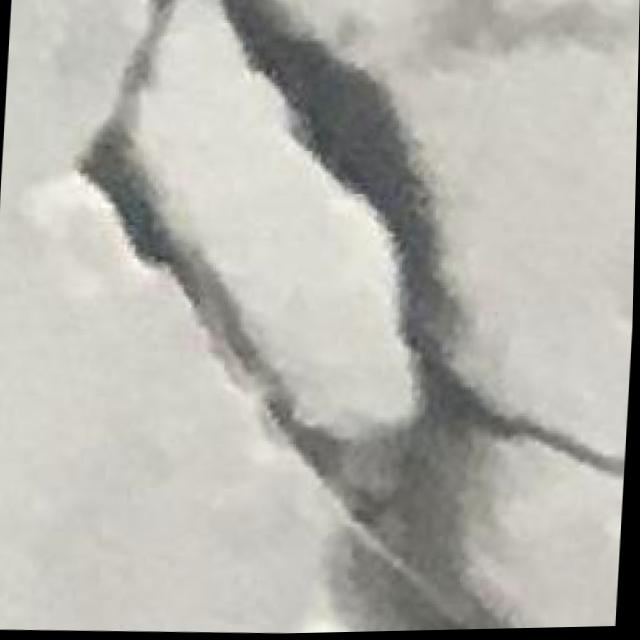Crack: (51, 0, 640, 639)
